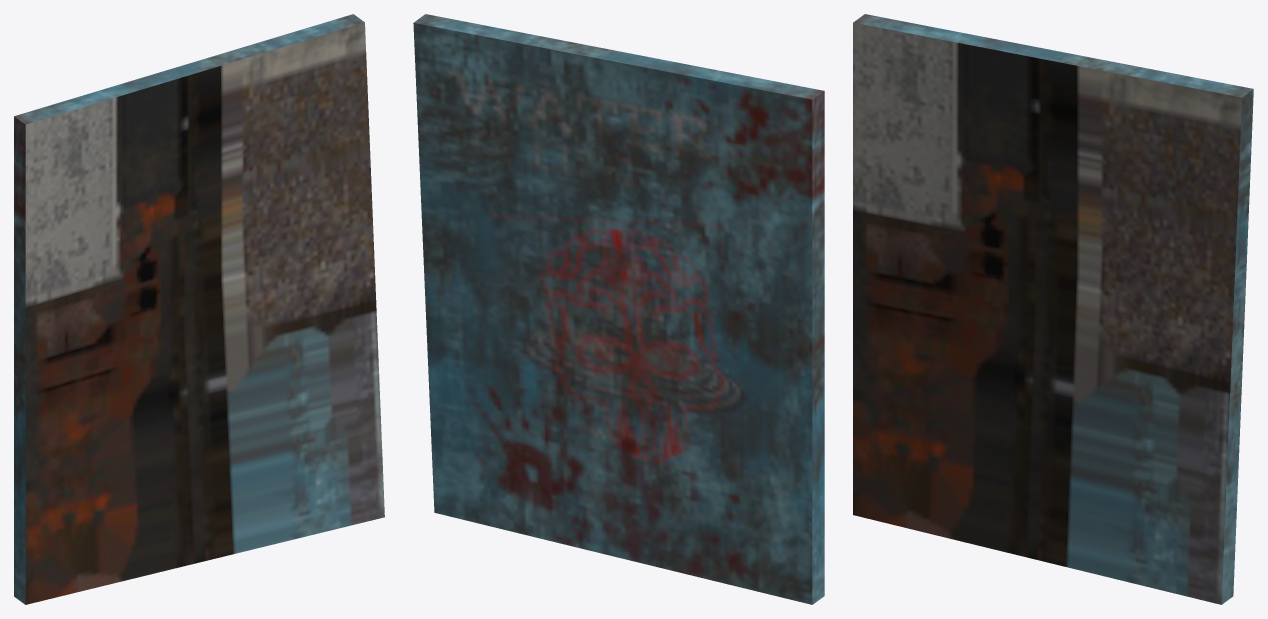
File: A_Poster04.FBX
The picture shows the model from 3 angles, left to right: view 1: azimuth 30°, elevation 25°; view 2: azimuth 150°, elevation 25°; view 3: azimuth 330°, elevation 25°; orthographic projection. The views are drawn at different scales.
Parts seen in each view (by area): view 1: A_Poster04; view 2: A_Poster04; view 3: A_Poster04.
Boxes of the visible parts, x1,y1,x2,y2 form: A_Poster04: (14, 14, 384, 604); A_Poster04: (413, 14, 824, 604); A_Poster04: (853, 14, 1253, 604).
Bounding box in the file's own units: 72.19 × 92.2 × 10.94.
